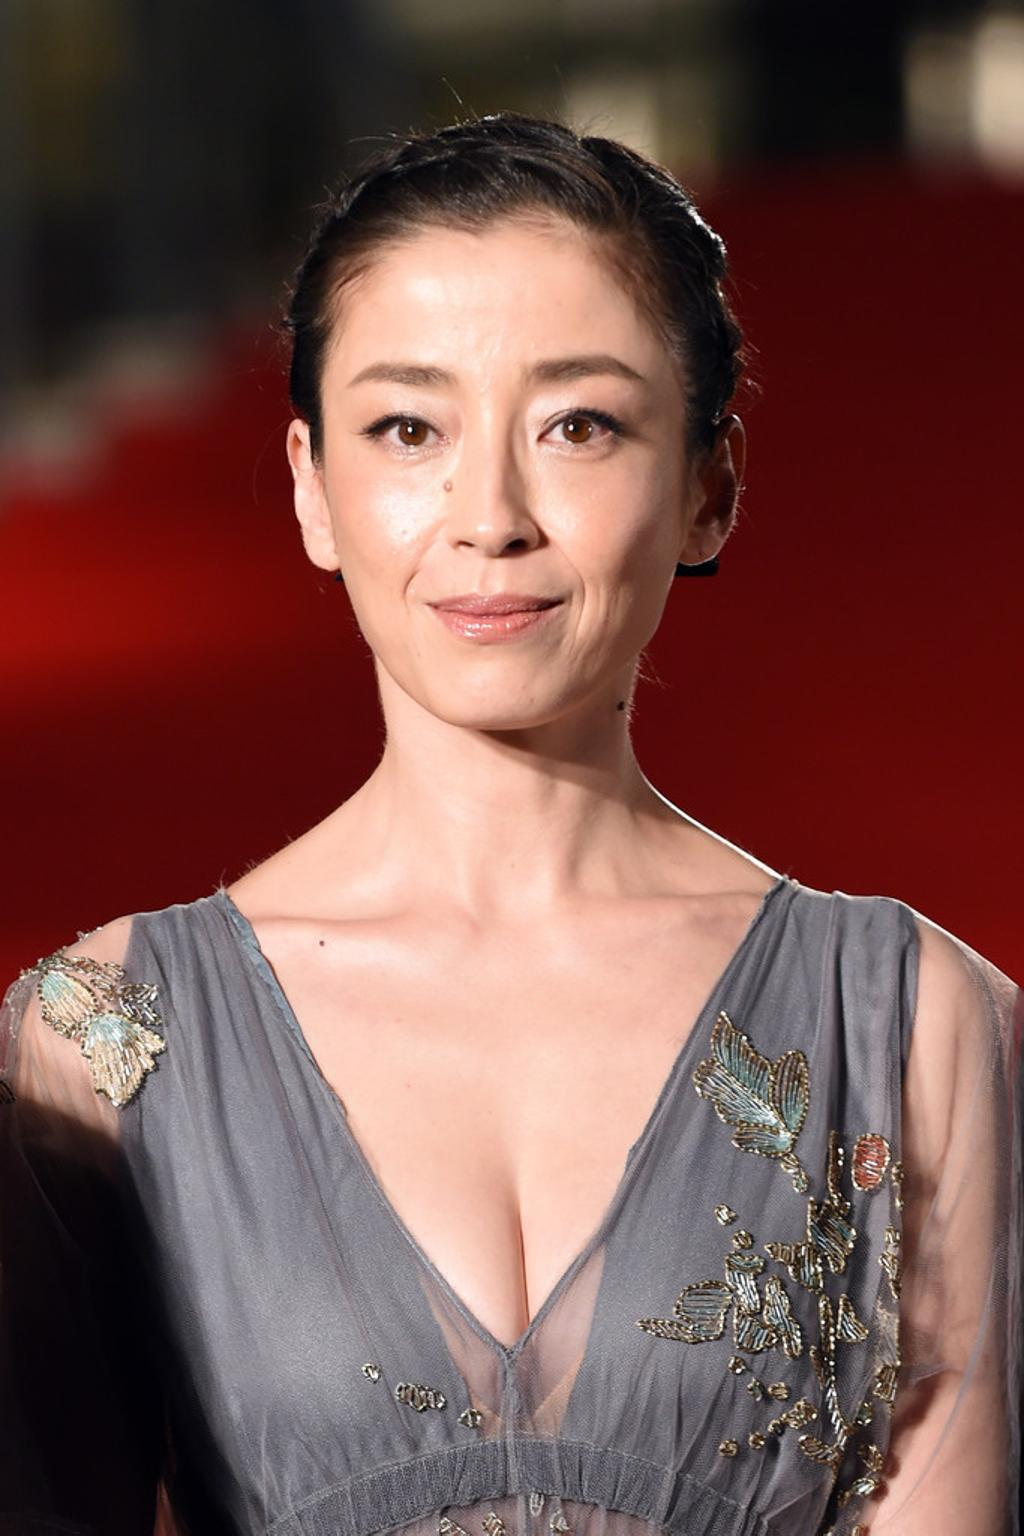face: (333, 264, 674, 725)
